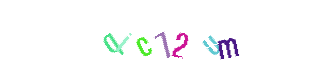2: (140, 0, 220, 80)
7: (127, 0, 207, 80)
C: (117, 0, 197, 80)
I: (103, 0, 183, 80)
M: (187, 0, 267, 80)
Q: (102, 0, 182, 80)
U: (141, 0, 221, 80)
